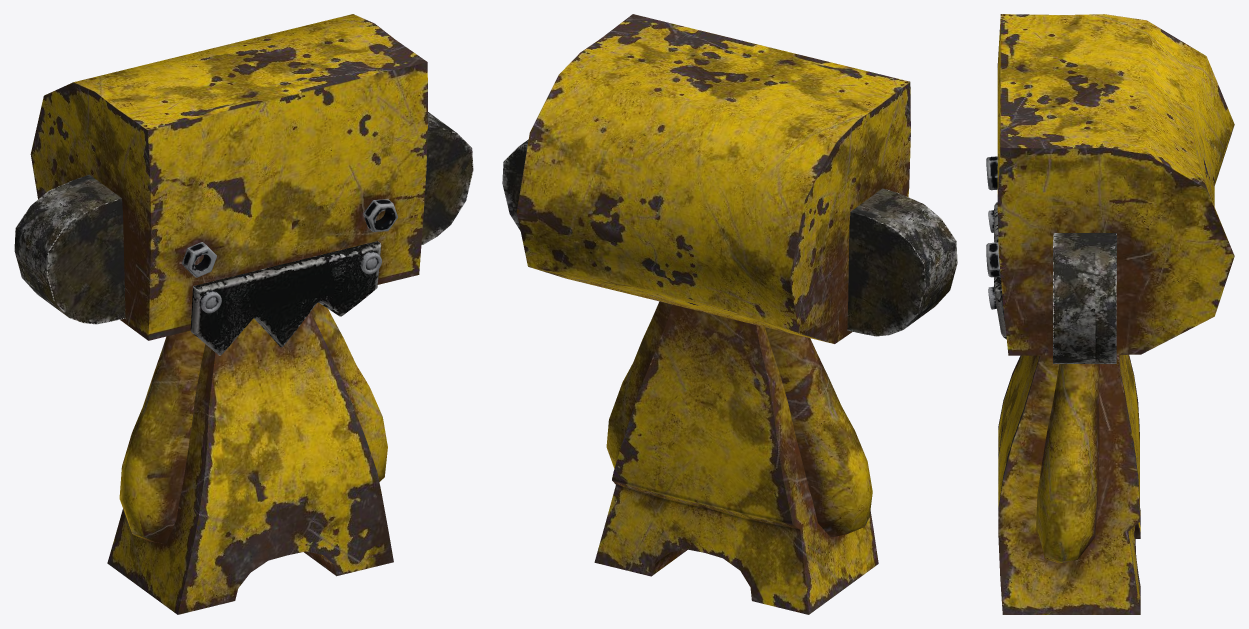
Rendered from modelo.glb.
3 views of the same model, side by side, from view 1: azimuth 30°, elevation 25°; view 2: azimuth 150°, elevation 25°; view 3: azimuth 270°, elevation 25° (orthographic). The views are drawn at different scales.
Visible parts, largest first — view 1: Rusty_Yellow_Tuercas, Cuerpo, Orejas, polySurface2, polySurface1, Ojos; view 2: Rusty_Yellow_Tuercas, Cuerpo, Orejas, polySurface2, polySurface1; view 3: Rusty_Yellow_Tuercas, Cuerpo, polySurface1, Orejas, Ojos.
Boxes of the visible parts, bbox=[...] form: Rusty_Yellow_Tuercas: bbox=[30, 14, 428, 355]; Cuerpo: bbox=[107, 312, 393, 614]; Orejas: bbox=[14, 112, 473, 324]; polySurface2: bbox=[119, 330, 205, 543]; polySurface1: bbox=[310, 302, 387, 481]; Ojos: bbox=[181, 199, 397, 277]; Rusty_Yellow_Tuercas: bbox=[516, 14, 910, 343]; Cuerpo: bbox=[594, 305, 878, 614]; Orejas: bbox=[502, 139, 957, 336]; polySurface2: bbox=[765, 327, 872, 537]; polySurface1: bbox=[606, 301, 672, 468]; Rusty_Yellow_Tuercas: bbox=[988, 14, 1234, 355]; Cuerpo: bbox=[998, 355, 1140, 614]; polySurface1: bbox=[1035, 364, 1099, 563]; Orejas: bbox=[1052, 233, 1116, 363]; Ojos: bbox=[986, 156, 1000, 277].
Size of the model in its own units: 0.1404 by 0.155 by 0.0723.
Materials: 1 (1 with a texture image).
